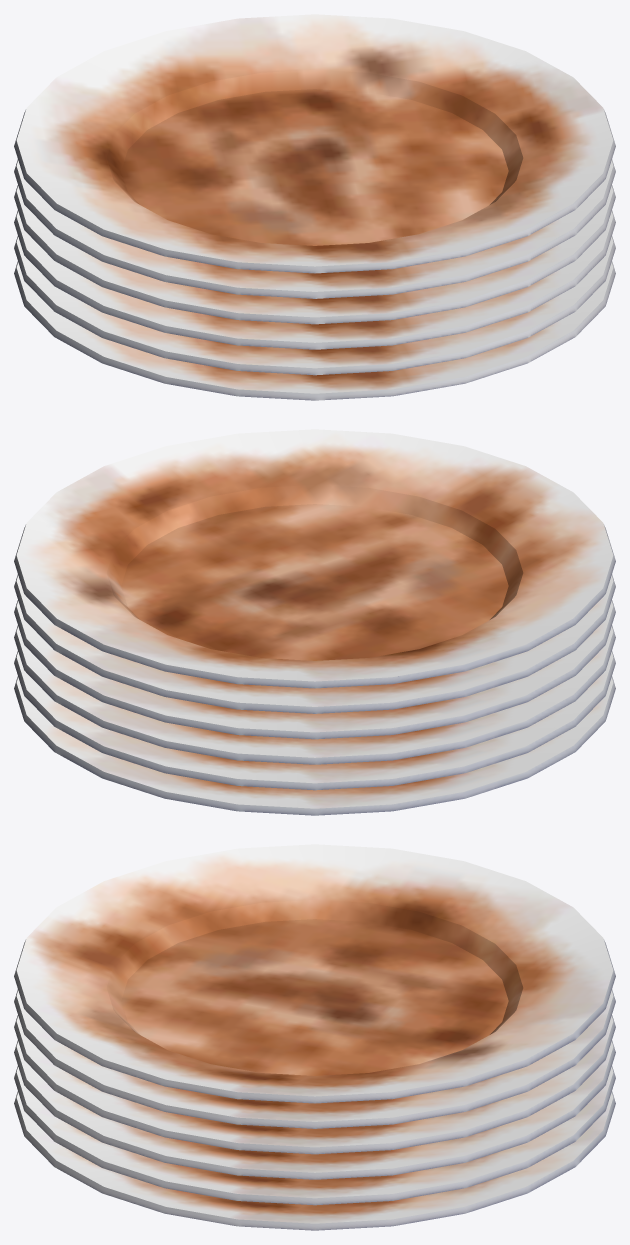
The model's file is dirtyPlate.gltf.
3 renders of one model, top to bottom at view 1: azimuth 30°, elevation 25°; view 2: azimuth 150°, elevation 25°; view 3: azimuth 270°, elevation 25°, orthographic.
Parts seen in each view (by area): view 1: plate.005, plate.002, plate, plate.004, plate.003, plate.001; view 2: plate.005, plate.002, plate, plate.004, plate.003, plate.001; view 3: plate.005, plate.002, plate, plate.004, plate.003, plate.001.
Part boxes in pixels (<box>): plate.005: <box>14,14,615,273</box>; plate.002: <box>14,210,615,349</box>; plate: <box>14,261,615,400</box>; plate.004: <box>14,159,615,298</box>; plate.003: <box>14,185,615,324</box>; plate.001: <box>14,236,615,375</box>; plate.005: <box>14,429,615,688</box>; plate.002: <box>14,625,615,764</box>; plate: <box>14,676,615,815</box>; plate.004: <box>14,574,615,713</box>; plate.003: <box>14,600,615,739</box>; plate.001: <box>14,651,615,790</box>; plate.005: <box>14,844,615,1103</box>; plate.002: <box>14,1040,615,1179</box>; plate: <box>14,1091,615,1230</box>; plate.004: <box>14,989,615,1128</box>; plate.003: <box>14,1015,615,1154</box>; plate.001: <box>14,1066,615,1205</box>.
Bounding box in the file's own units: 1.5 × 0.4594 × 1.5.
Materials: 2 (2 with a texture image).
